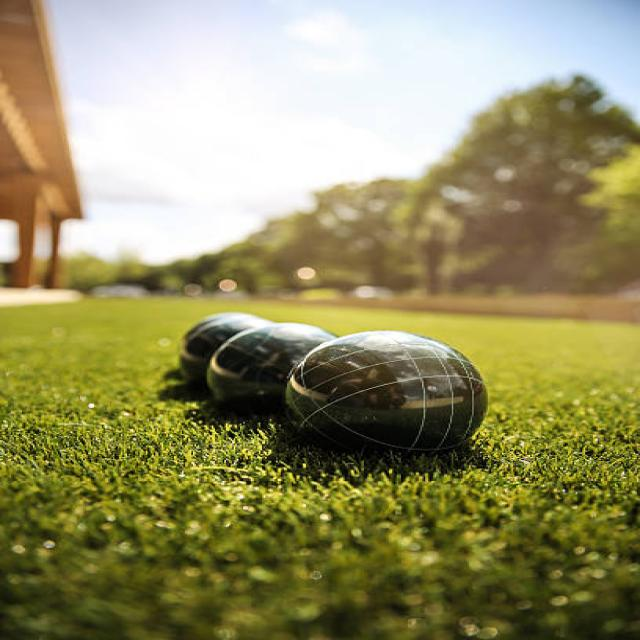petanque: (268, 326, 498, 464), (200, 315, 361, 423), (164, 312, 293, 396)
